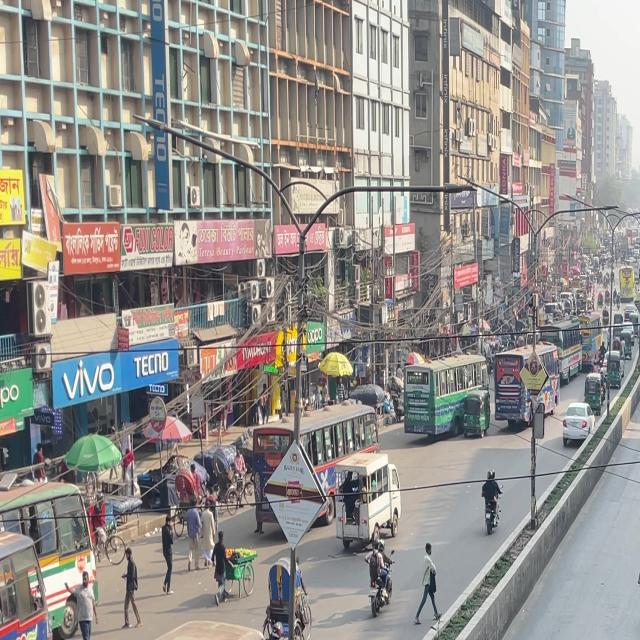bicycle: (634, 543, 640, 612)
bus: (0, 482, 85, 640), (403, 356, 494, 445), (490, 336, 565, 431), (18, 615, 279, 640)
car: (564, 404, 596, 444)
motorbike: (366, 540, 396, 615)
rickshaw: (463, 374, 493, 453), (585, 365, 604, 415)
van: (325, 450, 405, 544)
